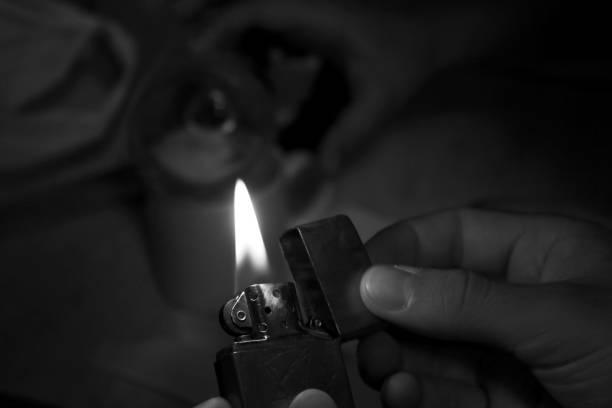Fire: (228, 175, 269, 280)
